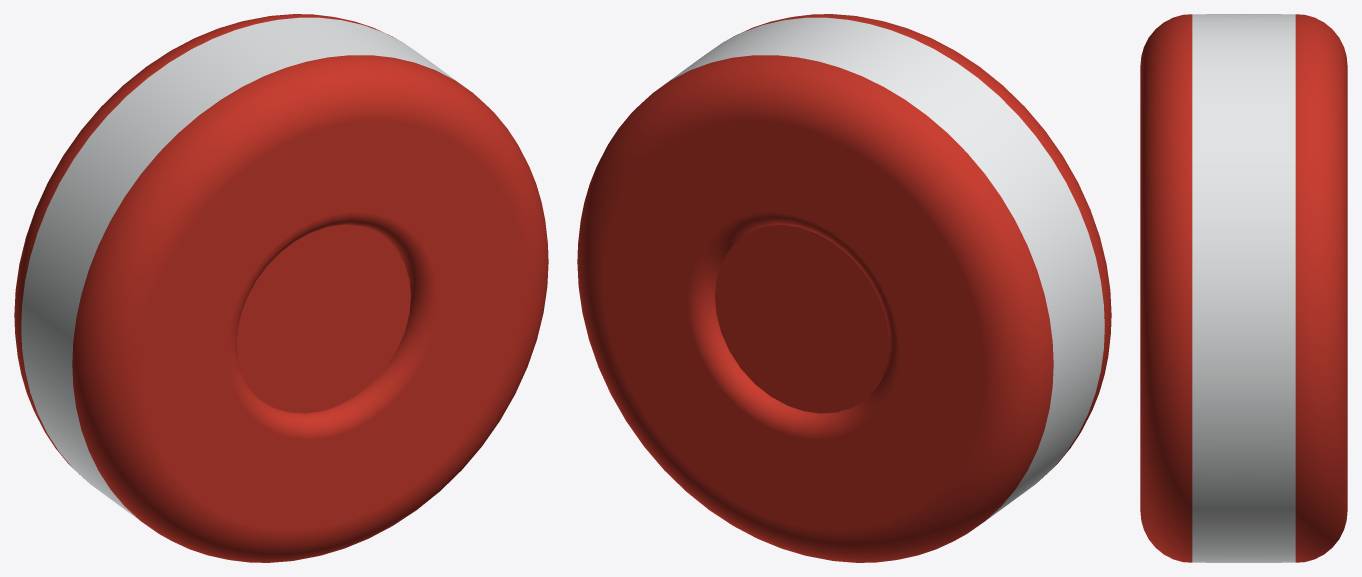
Rendered from Puck v1.fbx.
3 renders of one model, left to right at view 1: azimuth 30°, elevation 25°; view 2: azimuth 150°, elevation 25°; view 3: azimuth 270°, elevation 25°, orthographic.
Parts seen in each view (by area): view 1: Body1; view 2: Body1; view 3: Body1.
Boxes of the visible parts, left/top/right/bottom form: Body1: left=14, top=14, right=548, bottom=562; Body1: left=577, top=14, right=1111, bottom=562; Body1: left=1140, top=14, right=1347, bottom=562.
Bounding box in the file's own units: 53 × 53 × 20.
